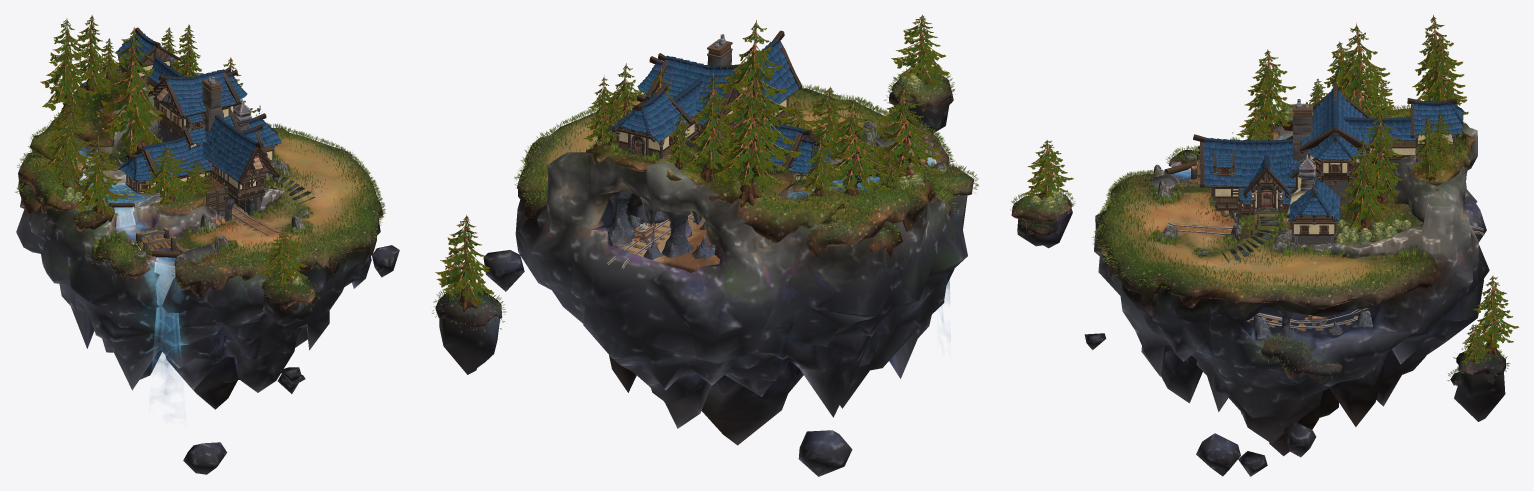
File: island.glb
3 renders of one model, left to right at view 1: azimuth 30°, elevation 25°; view 2: azimuth 150°, elevation 25°; view 3: azimuth 270°, elevation 25°, orthographic. The views are drawn at different scales.
Parts seen in each view (by area): view 1: Final_Bridge1_SF_Island_Mat_0, Final_Bridge1_SF_Grass_Mat_0, Final_Bridge1_SF_TreeLeaf_Mat_0, Final_Bridge1_SF_GrassCards_Mat_0, Final_Bridge1_SF_Roof_Final_0, Final_Bridge1_SF_Water_Mat_0, Final_Bridge1_SF_HouseSupport_Mat_0, Final_Bridge1_SF_TreeWood_Mat_0, Final_Bridge1_SF_WoodTex_Mat_0, Final_Bridge1_SF_Rocks_Mat_0, Final_Bridge1_SF_StoneBrick_Mat_0, Final_Bridge1_SF_Chimney_Mat_0 (+5 smaller); view 2: Final_Bridge1_SF_Island_Mat_0, Final_Bridge1_SF_TreeLeaf_Mat_0, Final_Bridge1_SF_Grass_Mat_0, Final_Bridge1_SF_GrassCards_Mat_0, Final_Bridge1_SF_Roof_Final_0, Final_Bridge1_SF_TreeWood_Mat_0, Final_Bridge1_SF_Stalagmites_Mat_0, Final_Bridge1_SF_HouseSupport_Mat_0, Final_Bridge1_SF_WoodTex_Mat_0, Final_Bridge1_SF_Bush_Mat_0, Final_Bridge1_SF_Water_Mat_0; view 3: Final_Bridge1_SF_Island_Mat_0, Final_Bridge1_SF_Grass_Mat_0, Final_Bridge1_SF_TreeLeaf_Mat_0, Final_Bridge1_SF_GrassCards_Mat_0, Final_Bridge1_SF_Roof_Final_0, Final_Bridge1_SF_HouseSupport_Mat_0, Final_Bridge1_SF_Bush_Mat_0, Final_Bridge1_SF_StoneBrick_Mat_0, Final_Bridge1_SF_TreeWood_Mat_0, Final_Bridge1_SF_Rocks_Mat_0, Final_Bridge1_SF_PlasterTex_Mat_0, Final_Bridge1_SF_WoodTex_Mat_0 (+6 smaller).
Part boxes in pixels (<box>): Final_Bridge1_SF_Island_Mat_0: <box>16,65,399,474</box>; Final_Bridge1_SF_Grass_Mat_0: <box>18,63,383,309</box>; Final_Bridge1_SF_TreeLeaf_Mat_0: <box>40,16,308,286</box>; Final_Bridge1_SF_GrassCards_Mat_0: <box>15,63,386,307</box>; Final_Bridge1_SF_Roof_Final_0: <box>115,27,281,185</box>; Final_Bridge1_SF_Water_Mat_0: <box>77,148,181,394</box>; Final_Bridge1_SF_HouseSupport_Mat_0: <box>118,49,282,221</box>; Final_Bridge1_SF_TreeWood_Mat_0: <box>58,14,292,285</box>; Final_Bridge1_SF_WoodTex_Mat_0: <box>117,48,272,198</box>; Final_Bridge1_SF_Rocks_Mat_0: <box>134,160,309,270</box>; Final_Bridge1_SF_StoneBrick_Mat_0: <box>130,79,260,218</box>; Final_Bridge1_SF_Chimney_Mat_0: <box>109,76,260,257</box>; Final_Bridge1_SF_Island_Mat_0: <box>439,98,967,476</box>; Final_Bridge1_SF_TreeLeaf_Mat_0: <box>435,15,949,304</box>; Final_Bridge1_SF_Grass_Mat_0: <box>435,71,973,330</box>; Final_Bridge1_SF_GrassCards_Mat_0: <box>431,67,978,332</box>; Final_Bridge1_SF_Roof_Final_0: <box>609,30,832,173</box>; Final_Bridge1_SF_TreeWood_Mat_0: <box>451,15,933,311</box>; Final_Bridge1_SF_Stalagmites_Mat_0: <box>607,190,714,259</box>; Final_Bridge1_SF_HouseSupport_Mat_0: <box>612,57,826,179</box>; Final_Bridge1_SF_WoodTex_Mat_0: <box>618,39,806,174</box>; Final_Bridge1_SF_Bush_Mat_0: <box>896,71,928,189</box>; Final_Bridge1_SF_Water_Mat_0: <box>787,157,949,321</box>; Final_Bridge1_SF_Island_Mat_0: <box>1017,121,1505,476</box>; Final_Bridge1_SF_Grass_Mat_0: <box>1011,108,1505,385</box>; Final_Bridge1_SF_TreeLeaf_Mat_0: <box>1022,16,1518,364</box>; Final_Bridge1_SF_GrassCards_Mat_0: <box>1010,102,1510,385</box>; Final_Bridge1_SF_Roof_Final_0: <box>1193,82,1463,221</box>; Final_Bridge1_SF_HouseSupport_Mat_0: <box>1212,134,1456,242</box>; Final_Bridge1_SF_Bush_Mat_0: <box>1028,104,1411,244</box>; Final_Bridge1_SF_StoneBrick_Mat_0: <box>1242,117,1424,244</box>; Final_Bridge1_SF_TreeWood_Mat_0: <box>1038,14,1503,362</box>; Final_Bridge1_SF_Rocks_Mat_0: <box>1153,153,1300,256</box>; Final_Bridge1_SF_PlasterTex_Mat_0: <box>1215,134,1452,233</box>; Final_Bridge1_SF_WoodTex_Mat_0: <box>1215,104,1452,222</box>.
Size of the model in its own units: 1.37 by 1.51 by 1.56.
Materials: 31 (29 with a texture image).
